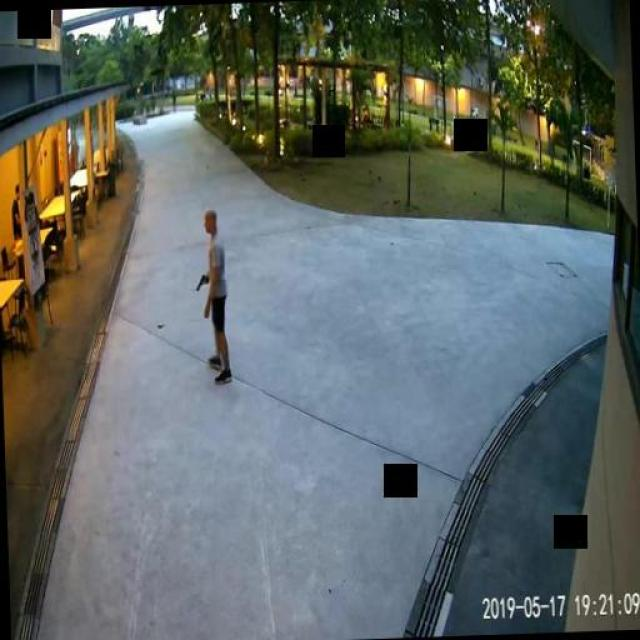gun: (194, 272, 205, 288)
